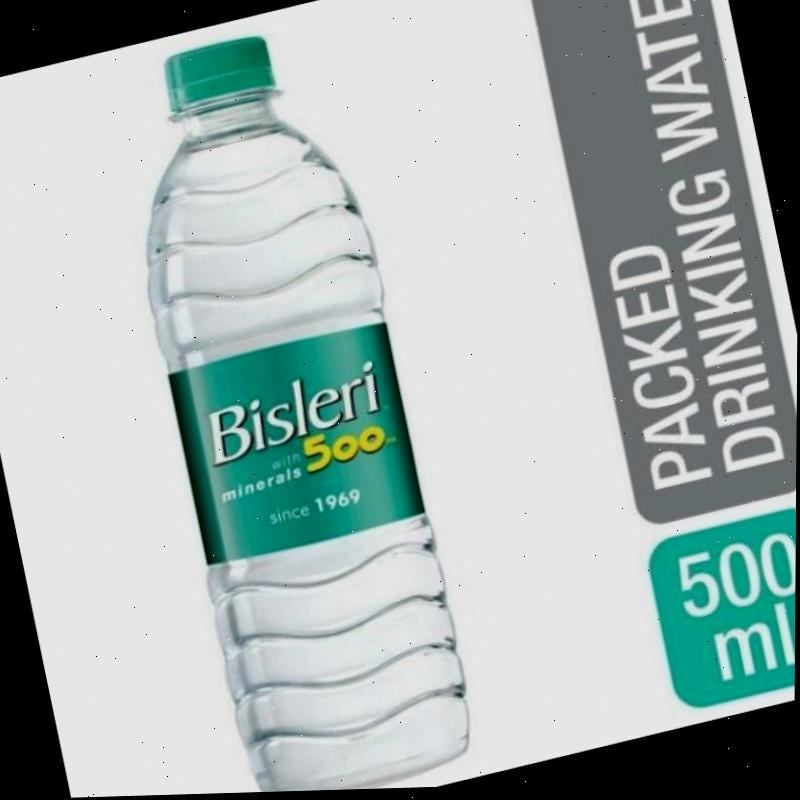botella: (91, 14, 482, 798)
